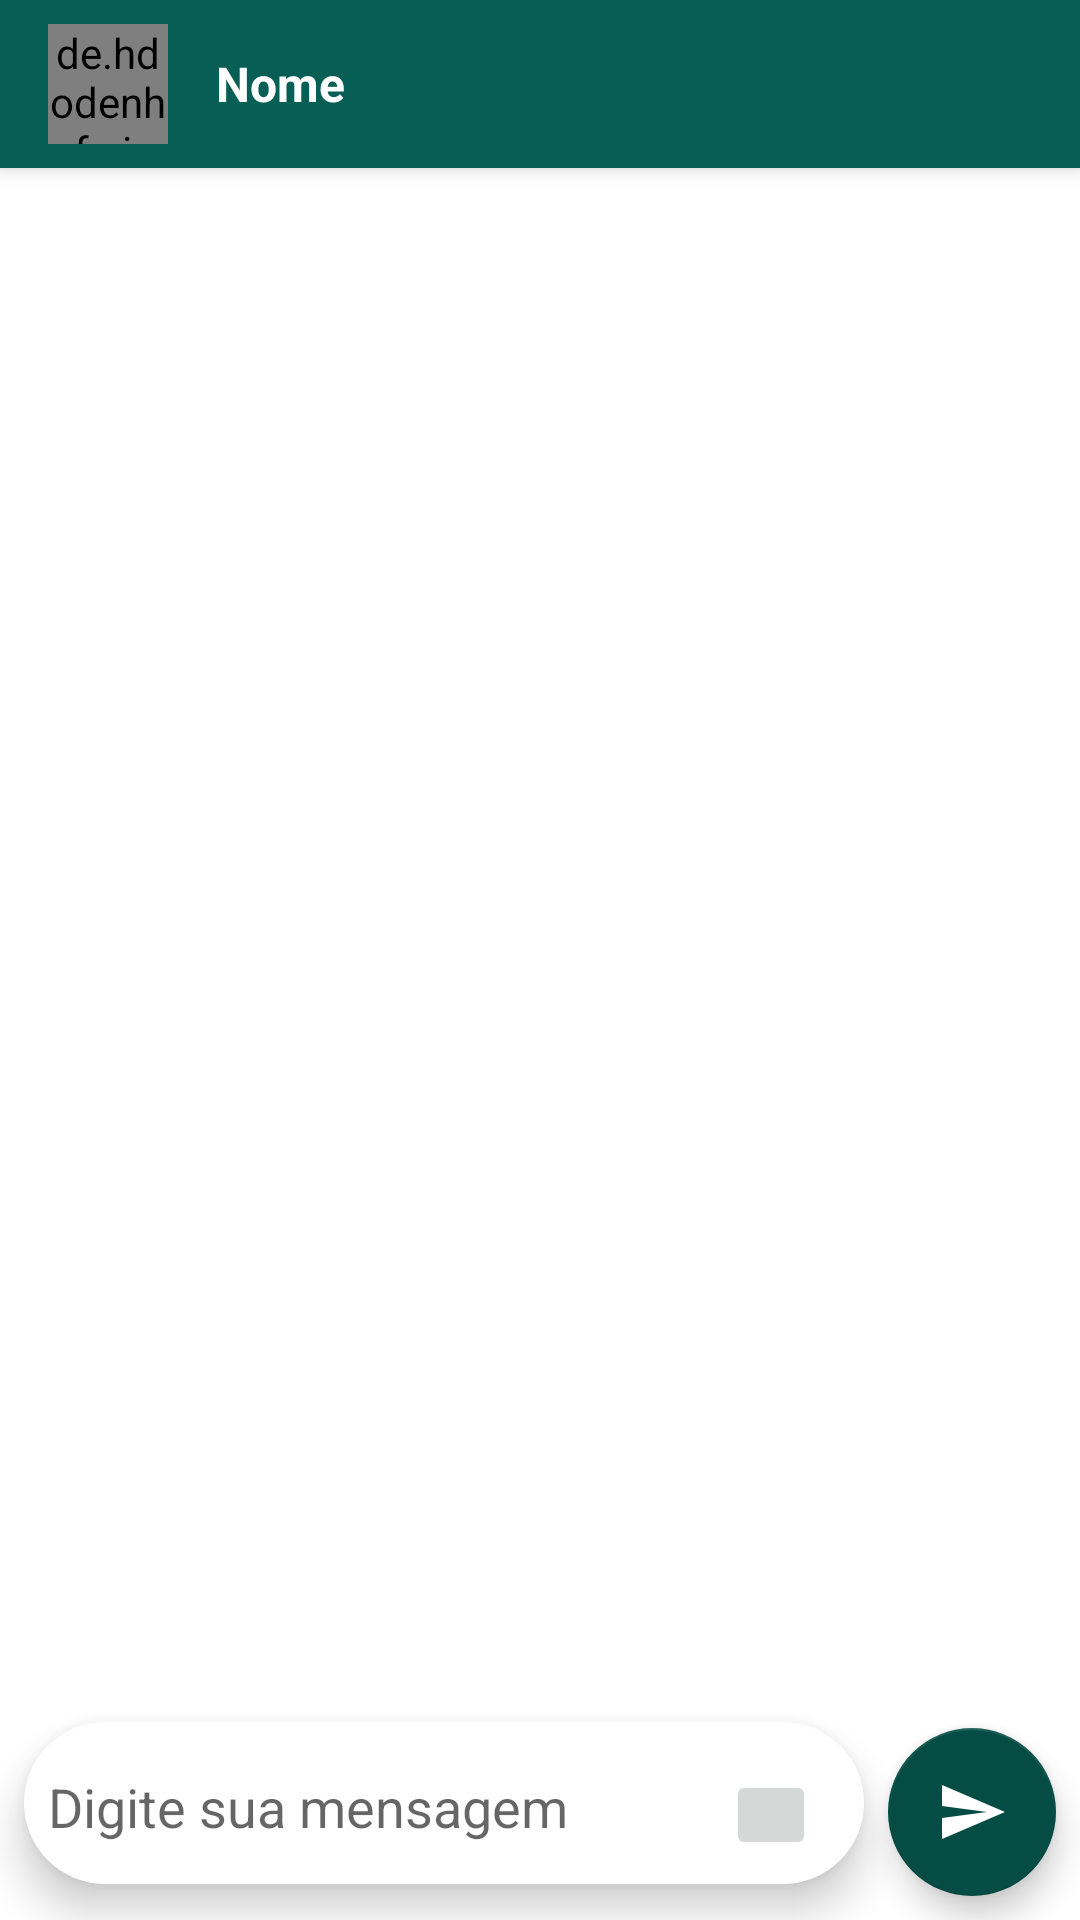

Icon click points for this 1080w x 1920h phone screenshot, format (x=x, y=y):
send: (x=972, y=1812)
